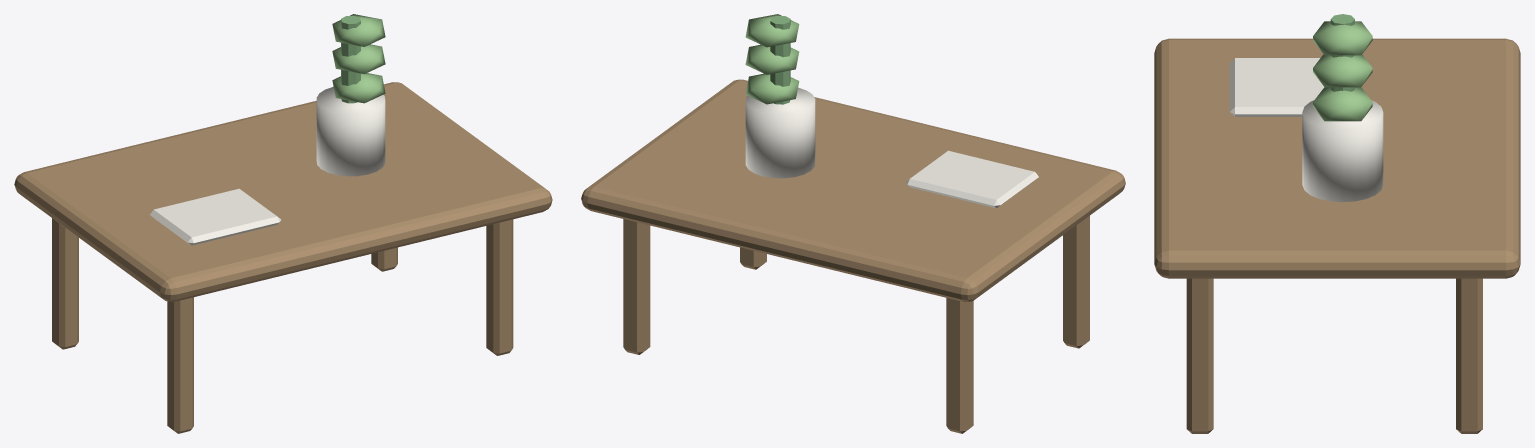
File: table.glb
3 renders of one model, left to right at view 1: azimuth 30°, elevation 25°; view 2: azimuth 150°, elevation 25°; view 3: azimuth 270°, elevation 25°, orthographic. The views are drawn at different scales.
Parts seen in each view (by area): view 1: table; view 2: table; view 3: table.
Part boxes in pixels (x1=…): table: x1=14, y1=14, x2=552, y2=433; table: x1=581, y1=14, x2=1125, y2=433; table: x1=1154, y1=14, x2=1520, y2=433.
Size of the model in its own units: 1.96 by 1.48 by 1.36.
